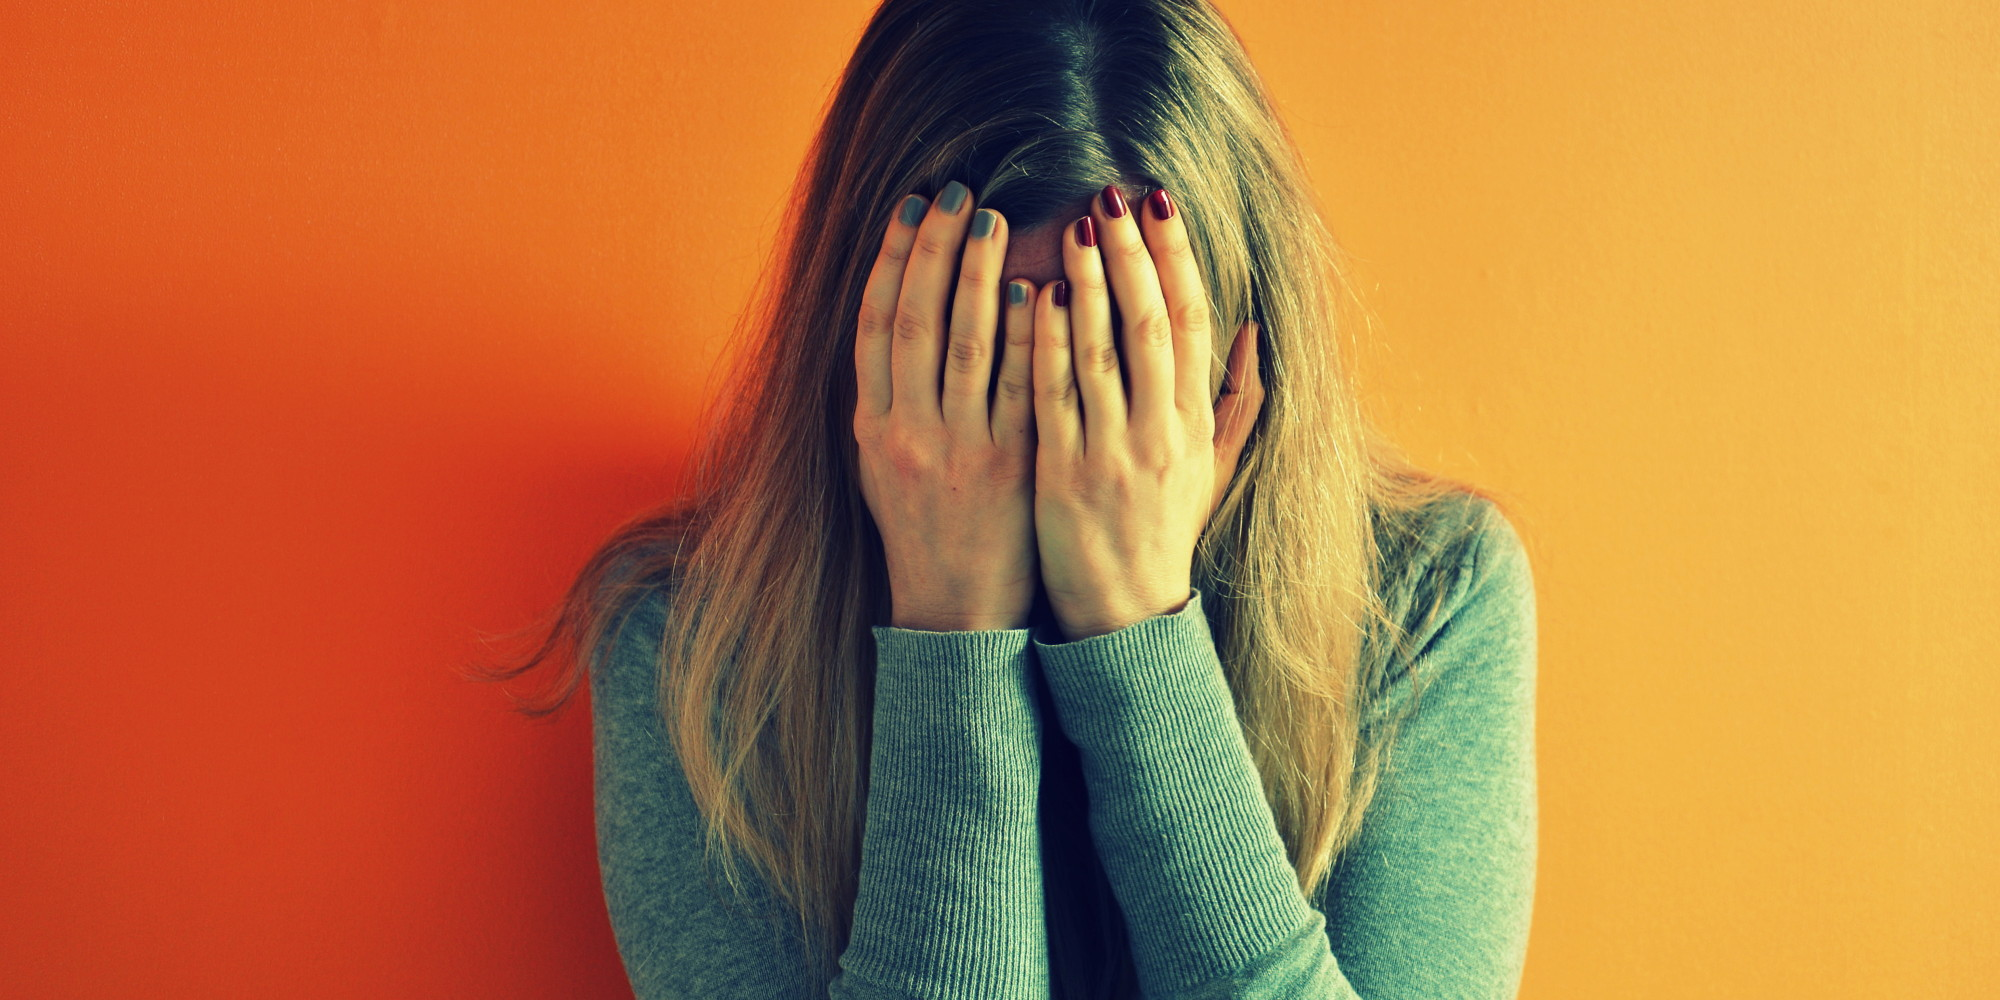human: (490, 1, 1642, 1000)
